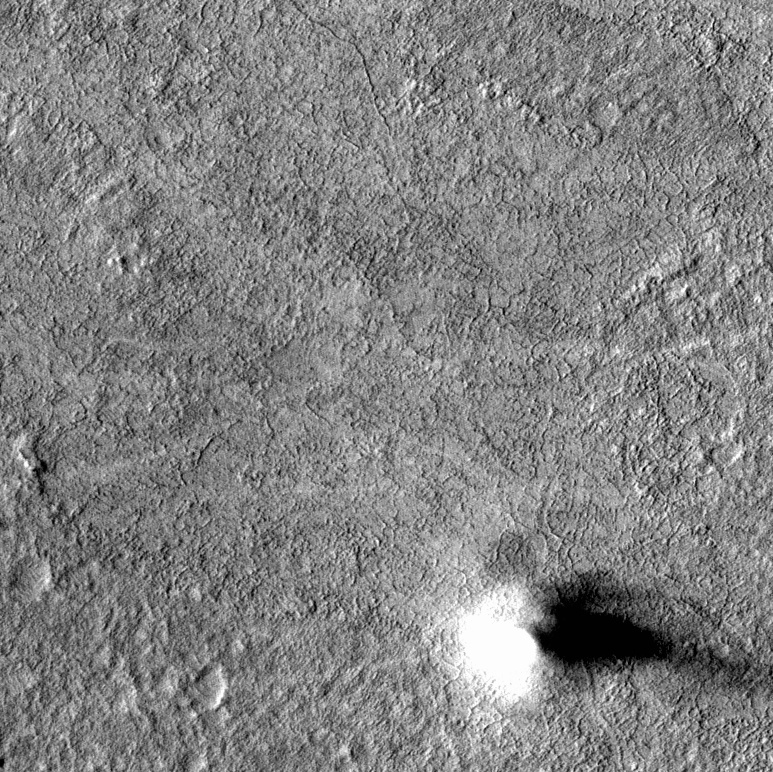dust_devil: (450, 566, 771, 709)
